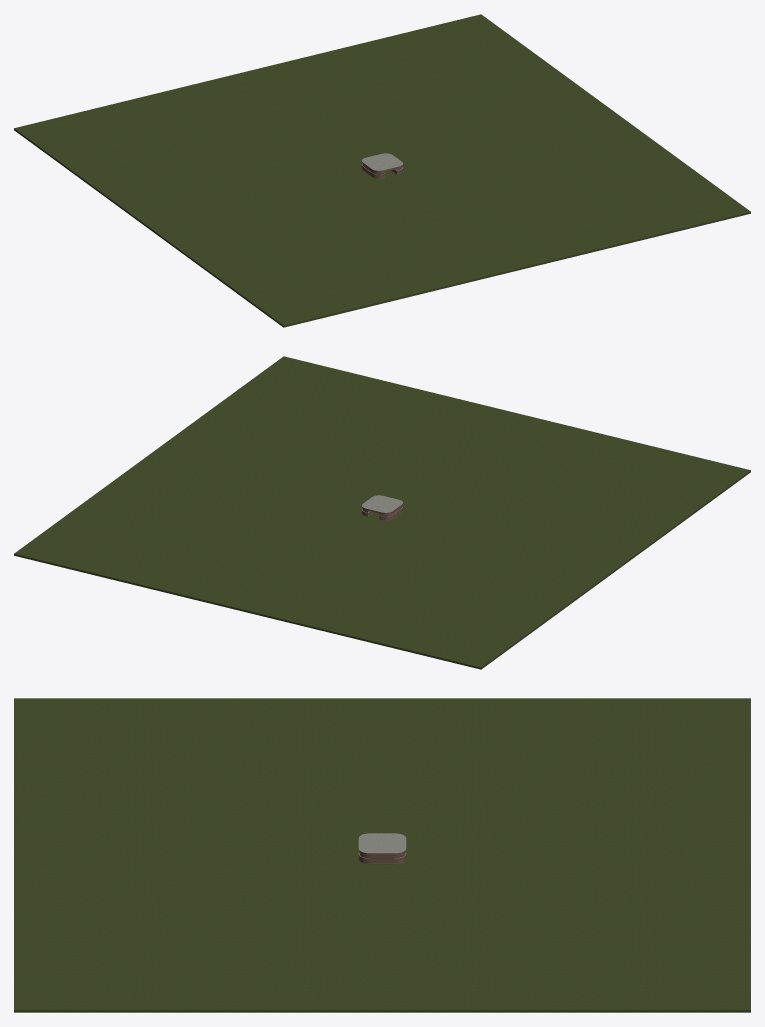
File: gm_flatgrass.glb
3 views of the same model, one above another, from view 1: azimuth 30°, elevation 25°; view 2: azimuth 150°, elevation 25°; view 3: azimuth 270°, elevation 25° (orthographic). The views are drawn at different scales.
Visible parts, largest first — view 1: worldspawn_1_690_79, worldspawn_1_592_65, worldspawn_1_725_84, worldspawn_1_641_72, worldspawn_1_746_87, worldspawn_1_585_64, worldspawn_1_627_70, worldspawn_1_669_76, worldspawn_1_732_85, worldspawn_1_704_81, worldspawn_1_606_67, worldspawn_1_648_73 (+4 smaller); view 2: worldspawn_1_725_84, worldspawn_1_641_72, worldspawn_1_690_79, worldspawn_1_592_65, worldspawn_1_746_87, worldspawn_1_669_76, worldspawn_1_627_70, worldspawn_1_585_64, worldspawn_1_704_81, worldspawn_1_732_85, worldspawn_1_648_73, worldspawn_1_606_67 (+4 smaller); view 3: worldspawn_1_592_65, worldspawn_1_641_72, worldspawn_1_690_79, worldspawn_1_725_84, worldspawn_1_627_70, worldspawn_1_585_64, worldspawn_1_669_76, worldspawn_1_746_87, worldspawn_1_599_66, worldspawn_1_655_74, worldspawn_1_606_67, worldspawn_1_648_73 (+12 smaller).
Boxes of the visible parts, x1,y1,x2,y2 form: worldspawn_1_690_79: (170,195,479,327); worldspawn_1_592_65: (442,129,750,261); worldspawn_1_725_84: (14,80,322,212); worldspawn_1_641_72: (285,14,593,144); worldspawn_1_746_87: (140,173,352,234); worldspawn_1_585_64: (389,182,532,274); worldspawn_1_627_70: (412,106,624,166); worldspawn_1_669_76: (233,67,375,157); worldspawn_1_732_85: (127,163,335,222); worldspawn_1_704_81: (157,185,365,244); worldspawn_1_606_67: (429,119,637,176); worldspawn_1_648_73: (399,97,606,154); worldspawn_1_725_84: (285,537,594,669); worldspawn_1_641_72: (14,471,322,603); worldspawn_1_690_79: (442,422,750,554); worldspawn_1_592_65: (171,356,479,486); worldspawn_1_746_87: (412,515,624,576); worldspawn_1_669_76: (232,524,375,616); worldspawn_1_627_70: (140,448,352,508); worldspawn_1_585_64: (389,409,531,499); worldspawn_1_704_81: (429,505,637,564); worldspawn_1_732_85: (399,527,607,586); worldspawn_1_648_73: (127,461,335,518); worldspawn_1_606_67: (158,439,365,496); worldspawn_1_592_65: (14,879,322,1012); worldspawn_1_641_72: (442,879,750,1012); worldspawn_1_690_79: (14,698,322,828); worldspawn_1_725_84: (442,698,750,828); worldspawn_1_627_70: (358,879,406,1012); worldspawn_1_585_64: (14,844,322,864); worldspawn_1_669_76: (442,844,750,864); worldspawn_1_746_87: (358,698,406,828); worldspawn_1_599_66: (14,864,322,879); worldspawn_1_655_74: (442,864,750,879); worldspawn_1_606_67: (323,879,358,1012); worldspawn_1_648_73: (406,879,441,1012).
Size of the model in its own units: 317 by 6.4 by 317.
9 materials, 8 textured.
